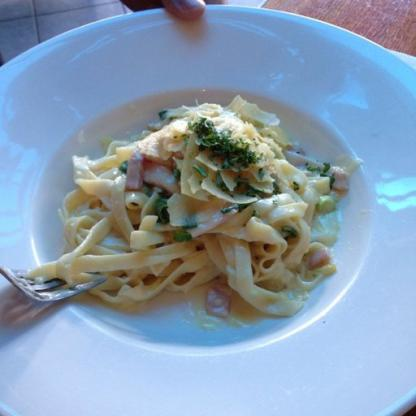pasta: (50, 95, 316, 330)
